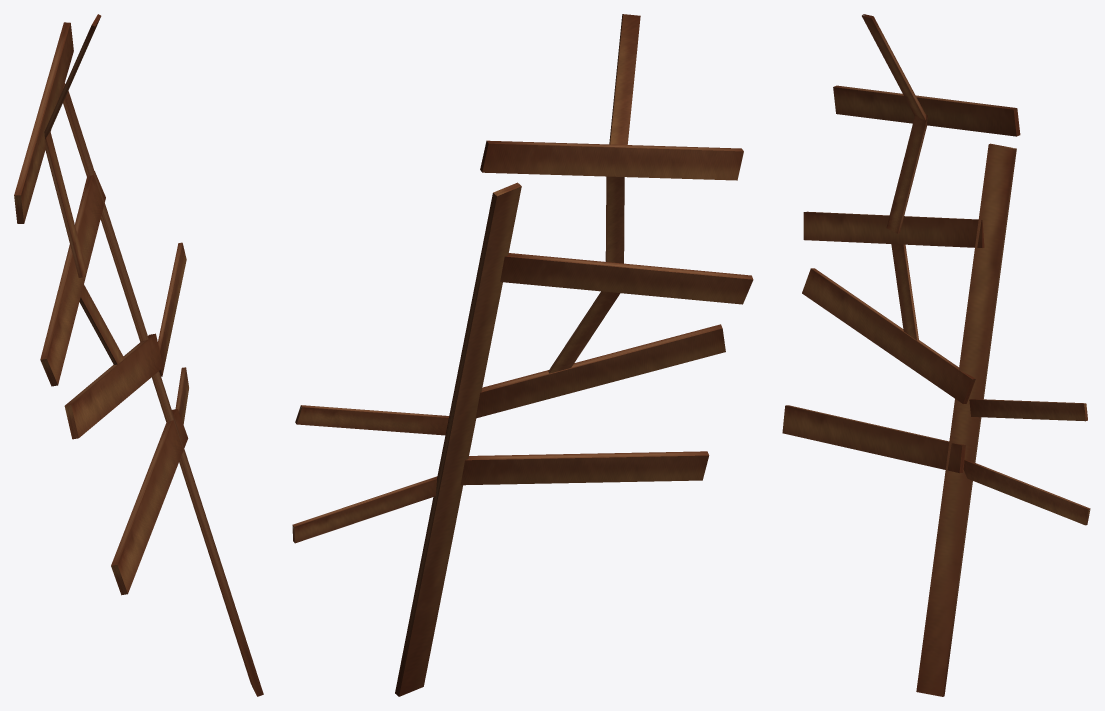
The model's file is 5th wooden_plates.FBX.
The picture shows the model from 3 angles, left to right: view 1: azimuth 30°, elevation 25°; view 2: azimuth 150°, elevation 25°; view 3: azimuth 270°, elevation 25°; orthographic projection. The views are drawn at different scales.
Parts seen in each view (by area): view 1: Wooden_Plate; view 2: Wooden_Plate; view 3: Wooden_Plate.
Part boxes in pixels (<box>): Wooden_Plate: <box>14,14,263,696</box>; Wooden_Plate: <box>292,14,753,696</box>; Wooden_Plate: <box>782,14,1090,696</box>.
Bounding box in the file's own units: 5.87 × 12.74 × 5.9.
